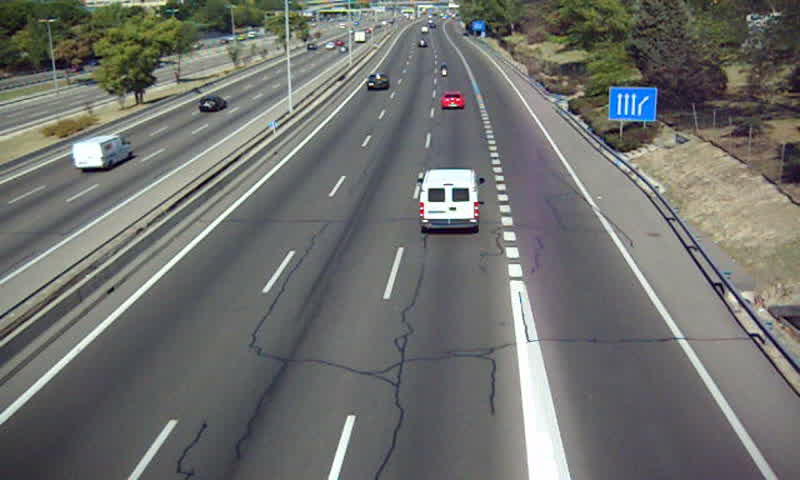car: (440, 91, 466, 111), (367, 73, 391, 90)
motorcycle: (438, 63, 450, 76)
van: (419, 169, 481, 230)
